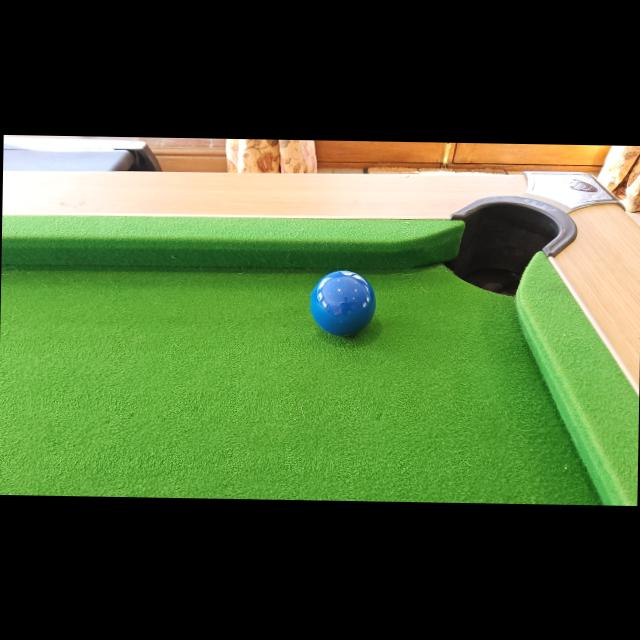Ball: (309, 269, 376, 338)
